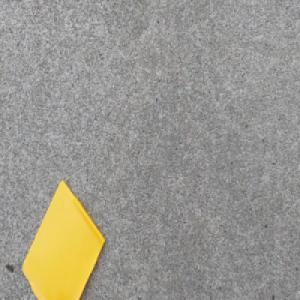PlasticPart: (20, 179, 105, 300)
